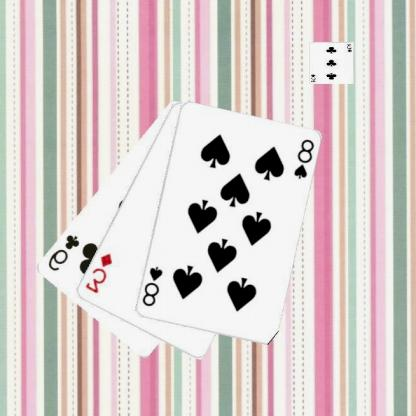3D: (83, 250, 115, 295)
6C: (46, 231, 83, 273)
8S: (140, 263, 166, 308), (292, 136, 317, 181)
